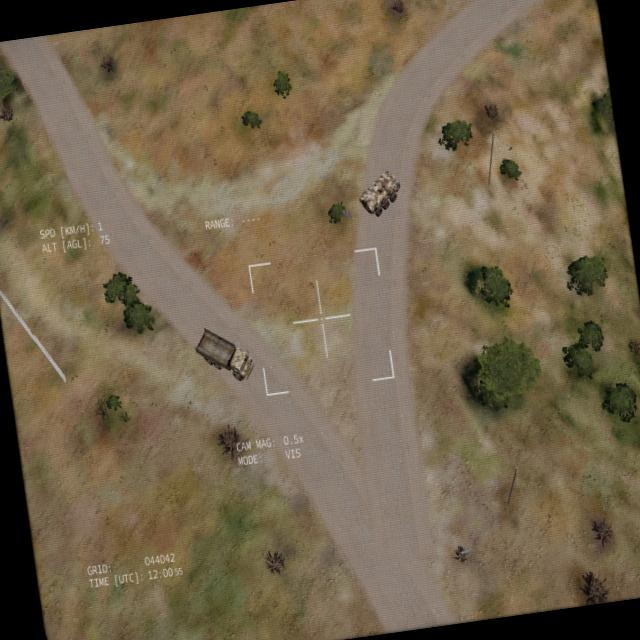apc: (354, 167, 404, 219)
truck: (190, 320, 257, 390)
